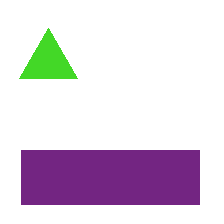rectangle: (21, 150, 199, 204)
triangle: (19, 28, 77, 78)
